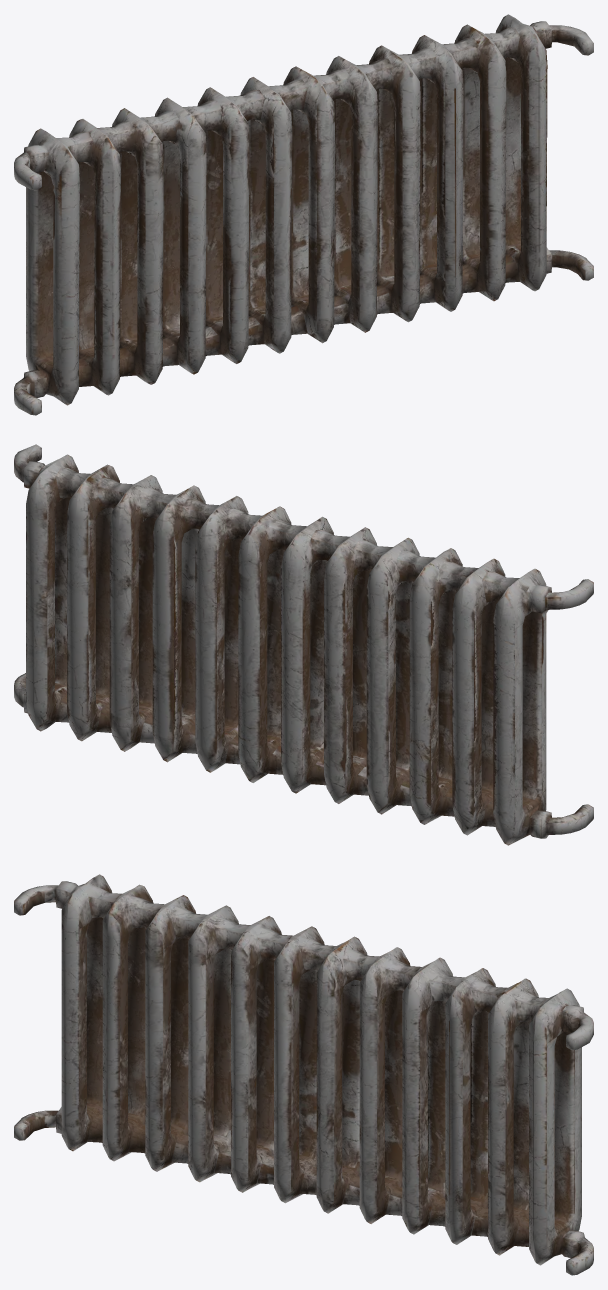
The model's file is radiator_rust.glb.
3 renders of one model, top to bottom at view 1: azimuth 30°, elevation 25°; view 2: azimuth 150°, elevation 25°; view 3: azimuth 330°, elevation 25°, orthographic.
Visible parts, largest first — view 1: [EXP]radiator_Radiator_0; view 2: [EXP]radiator_Radiator_0; view 3: [EXP]radiator_Radiator_0.
Boxes of the visible parts, <box> form: [EXP]radiator_Radiator_0: <box>14,14,593,415</box>; [EXP]radiator_Radiator_0: <box>14,444,593,845</box>; [EXP]radiator_Radiator_0: <box>14,874,593,1275</box>.
Size of the model in its own units: 1.73 by 0.7563 by 0.2409.
Materials: 1 (1 with a texture image).
